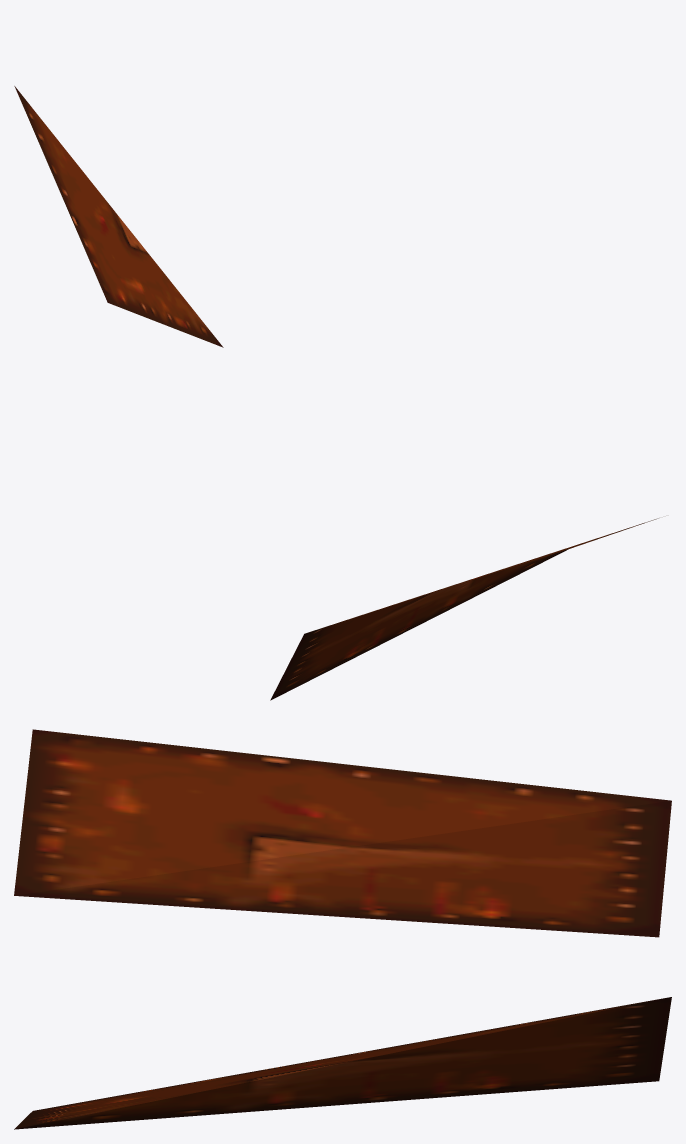
The model's file is Schiff_Bug6_1252.glb.
3 views of the same model, one above another, from view 1: azimuth 30°, elevation 25°; view 2: azimuth 150°, elevation 25°; view 3: azimuth 270°, elevation 25° (orthographic). The views are drawn at different scales.
Visible parts, largest first — view 1: pPlaneShape11; view 2: pPlaneShape11; view 3: pPlaneShape11, pPlaneShape32.
Boxes of the visible parts, <box> form: pPlaneShape11: <box>14,86,223,347</box>; pPlaneShape11: <box>270,518,658,700</box>; pPlaneShape11: <box>14,729,671,937</box>; pPlaneShape32: <box>14,997,671,1129</box>.
Size of the model in its own units: 2.06 by 0.2869 by 1.5.
Materials: 2 (2 with a texture image).
